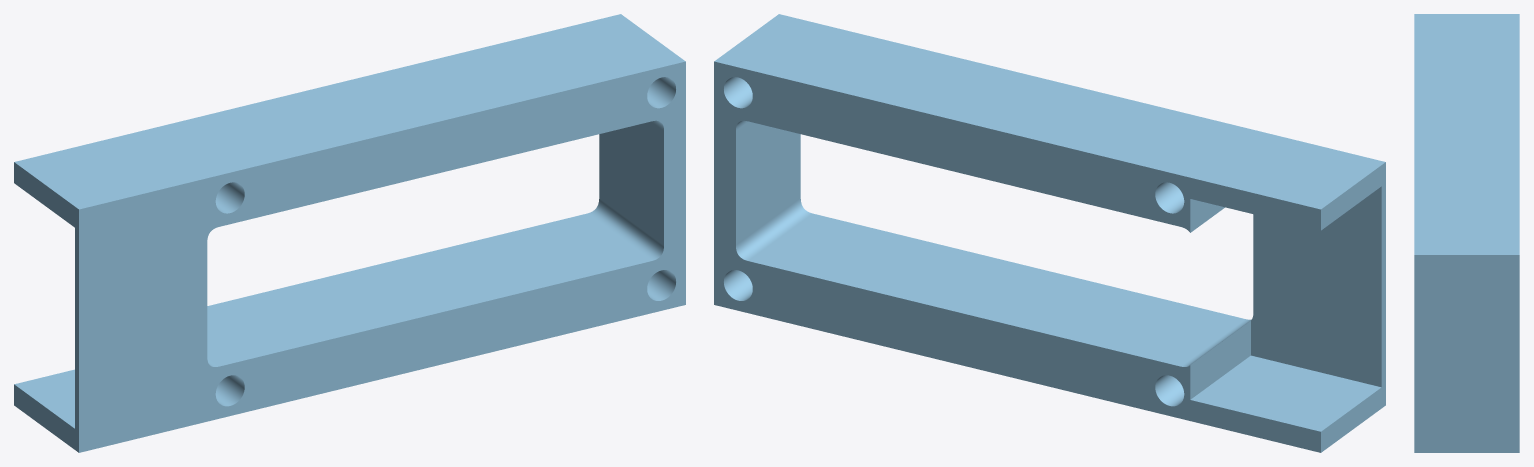
3 renders of one model, left to right at view 1: azimuth 30°, elevation 25°; view 2: azimuth 150°, elevation 25°; view 3: azimuth 270°, elevation 25°, orthographic. The views are drawn at different scales.
Visible parts, largest first — view 1: mesh4107, mesh4110, mesh4111, mesh4112, mesh4126, mesh4128, mesh4115, mesh4118, mesh4106, mesh4117, mesh4116; view 2: mesh4124, mesh4110, mesh4111, mesh4125, mesh4128, mesh4112, mesh4126, mesh4127, mesh4115, mesh4118, mesh4106, mesh4117 (+1 smaller); view 3: mesh4110, mesh4108.
Boxes of the visible parts, x1,y1,x2,y2 form: mesh4107: (79,61,685,452); mesh4110: (14,14,685,209); mesh4111: (207,213,651,366); mesh4112: (599,121,663,244); mesh4126: (14,162,78,452); mesh4128: (14,369,74,428); mesh4115: (587,198,663,260); mesh4118: (215,182,244,213); mesh4106: (215,375,244,406); mesh4117: (647,77,675,108); mesh4116: (647,270,675,300); mesh4124: (714,61,1320,452); mesh4110: (714,14,1385,209); mesh4111: (748,213,1244,366); mesh4125: (1251,186,1381,387); mesh4128: (1190,355,1381,431); mesh4112: (736,121,800,244); mesh4126: (1321,162,1385,452); mesh4127: (1190,321,1250,399); mesh4115: (736,198,812,260); mesh4118: (1155,182,1184,213); mesh4106: (1155,375,1184,406); mesh4117: (724,77,752,108); mesh4110: (1414,14,1519,254); mesh4108: (1414,255,1519,452).
Size of the model in its own units: 0.0502 by 0.0192 by 0.0093.
